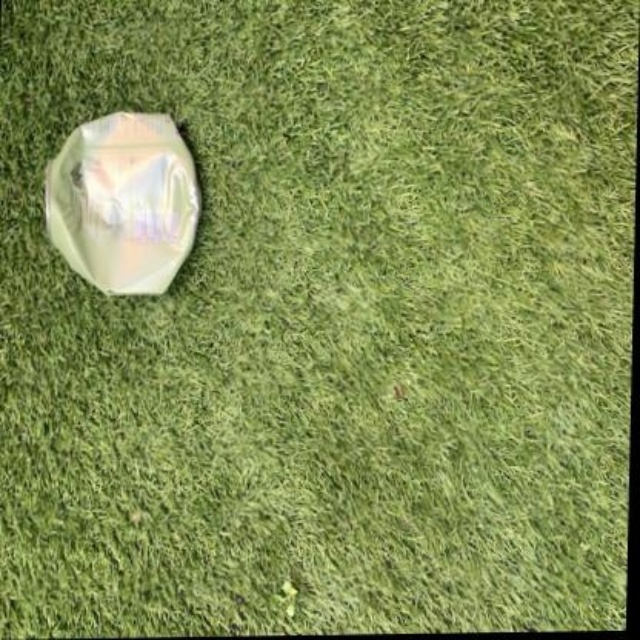trash: (46, 112, 198, 294)
